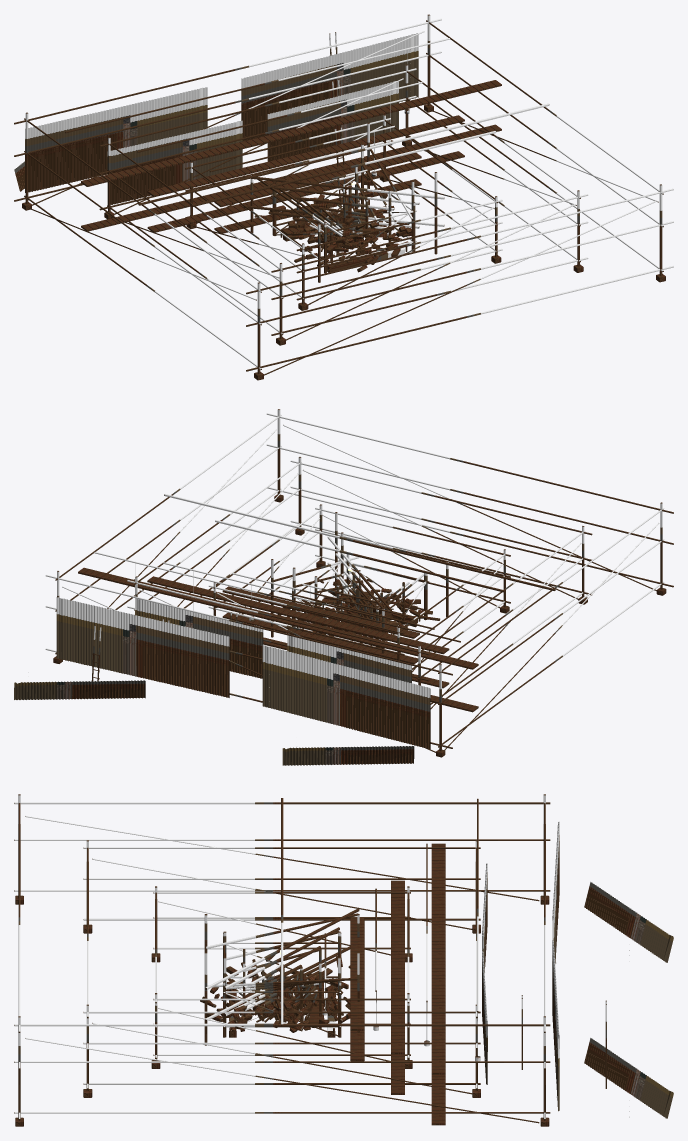
File: stages.glb
The picture shows the model from 3 angles, top to bottom: view 1: azimuth 30°, elevation 25°; view 2: azimuth 150°, elevation 25°; view 3: azimuth 270°, elevation 25°; orthographic projection. The views are drawn at different scales.
Visible parts, largest first — view 1: scaffold-4:wall-panel, scaffold-4:wall-panel.001, scaffold-3:wall-panel, scaffold-3:wall-panel.001, scaffold-4:ridge-pole, scaffold-4:ledger.004, scaffold-4:ledger.005, scaffold-4:ledger.003, scaffold-4:ledger.001, scaffold-4:ledger.002, scaffold-3:ridge-pole, scaffold-4:hoist-arm (+13 smaller); view 2: scaffold-4:wall-panel.001, scaffold-4:wall-panel, scaffold-3:wall-panel.001, scaffold-4:removed-sheet, scaffold-4:removed-sheet.001, scaffold-3:wall-panel, scaffold-4:ridge-pole, scaffold-4:ledger.005, scaffold-4:ledger.004, scaffold-4:ledger.003, scaffold-4:ledger.001, scaffold-3:ridge-pole (+11 smaller); view 3: scaffold-4:removed-sheet, scaffold-4:removed-sheet.001, scaffold-4:side-ledger.005, scaffold-4:side-ledger.004, scaffold-3:side-ledger.005, scaffold-3:side-ledger.003, scaffold-4:side-ledger.002, scaffold-4:side-ledger.001, scaffold-4:side-ledger.003, scaffold-4:side-ledger, scaffold-4:side-brace.001, scaffold-3:side-ledger (+15 smaller).
Part boxes in pixels (box(x1,y1,x2,y2)): scaffold-4:wall-panel: box(25, 87, 207, 192); scaffold-4:wall-panel.001: box(241, 33, 418, 141); scaffold-3:wall-panel: box(107, 120, 242, 204); scaffold-3:wall-panel.001: box(267, 81, 398, 161); scaffold-4:ridge-pole: box(138, 103, 549, 205); scaffold-4:ledger.004: box(14, 18, 441, 124); scaffold-4:ledger.005: box(246, 188, 673, 294); scaffold-4:ledger.003: box(246, 221, 673, 326); scaffold-4:ledger.001: box(246, 266, 673, 371); scaffold-4:ledger.002: box(14, 51, 441, 156); scaffold-3:ridge-pole: box(191, 131, 496, 206); scaffold-4:hoist-arm: box(65, 38, 450, 133); scaffold-4:wall-panel.001: box(56, 597, 229, 697); scaffold-4:wall-panel: box(262, 645, 430, 749); scaffold-3:wall-panel.001: box(135, 598, 263, 678); scaffold-4:removed-sheet: box(282, 746, 414, 765); scaffold-4:removed-sheet.001: box(14, 680, 145, 699); scaffold-3:wall-panel: box(287, 633, 411, 682); scaffold-4:ridge-pole: box(164, 494, 555, 590); scaffold-4:ledger.005: box(266, 413, 673, 513); scaffold-4:ledger.004: box(45, 575, 452, 675); scaffold-4:ledger.003: box(266, 444, 673, 544); scaffold-4:ledger.001: box(267, 487, 673, 587); scaffold-3:ridge-pole: box(215, 520, 504, 592); scaffold-4:removed-sheet: box(584, 882, 673, 962); scaffold-4:removed-sheet.001: box(584, 1038, 673, 1118); scaffold-4:side-ledger.005: box(14, 1024, 550, 1026); scaffold-4:side-ledger.004: box(14, 802, 550, 804); scaffold-3:side-ledger.005: box(83, 1011, 480, 1013); scaffold-3:side-ledger.003: box(83, 1042, 480, 1044); scaffold-4:side-ledger.002: box(14, 839, 550, 840); scaffold-4:side-ledger.001: box(14, 1112, 550, 1113); scaffold-4:side-ledger.003: box(14, 1061, 550, 1062); scaffold-4:side-ledger: box(14, 890, 550, 891); scaffold-4:side-brace.001: box(25, 1037, 539, 1123); scaffold-3:side-ledger: box(83, 918, 480, 920).
Bounding box in the file's own units: 31.54 × 6.81 × 36.37.
Materials: 12 (7 with a texture image).
